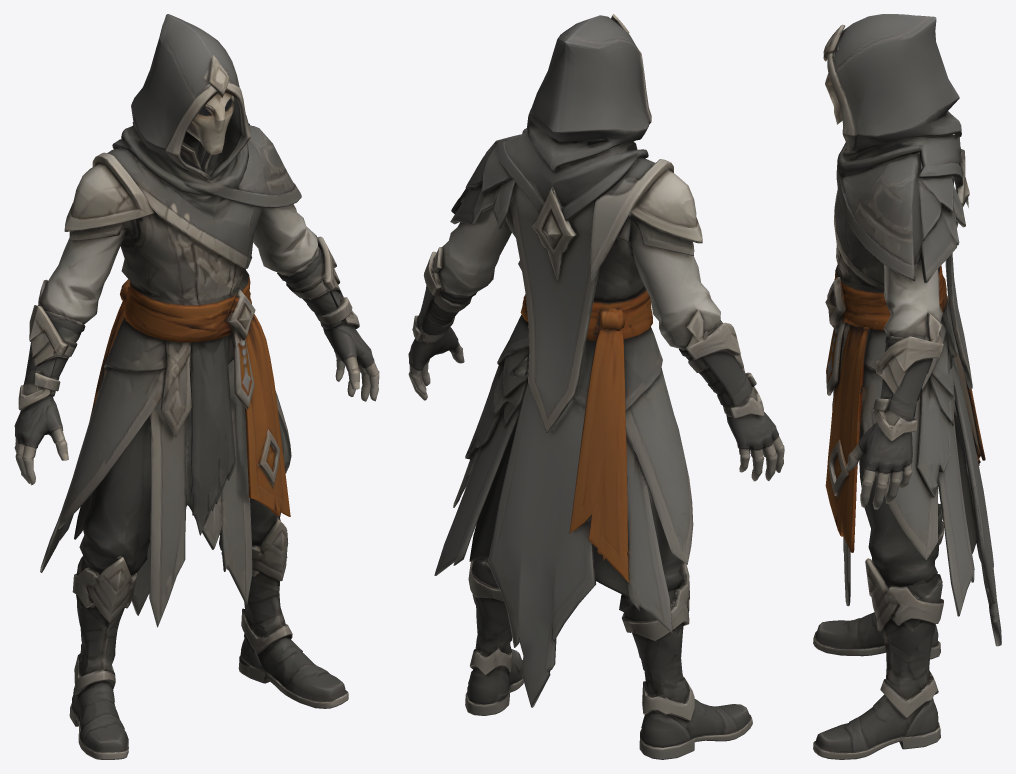
Rendered from hooded-assassin-tripo.glb.
3 renders of one model, left to right at view 1: azimuth 30°, elevation 25°; view 2: azimuth 150°, elevation 25°; view 3: azimuth 270°, elevation 25°, orthographic. The views are drawn at different scales.
Parts seen in each view (by area): view 1: a8be3fc8_dd36_4801_ba87_771319ee2336; view 2: a8be3fc8_dd36_4801_ba87_771319ee2336; view 3: a8be3fc8_dd36_4801_ba87_771319ee2336.
Part boxes in pixels (<box>): a8be3fc8_dd36_4801_ba87_771319ee2336: <box>14,14,379,759</box>; a8be3fc8_dd36_4801_ba87_771319ee2336: <box>408,14,784,759</box>; a8be3fc8_dd36_4801_ba87_771319ee2336: <box>813,14,1001,759</box>.
Size of the model in its own units: 0.5483 by 0.9995 by 0.2495.
Materials: 1 (1 with a texture image).
